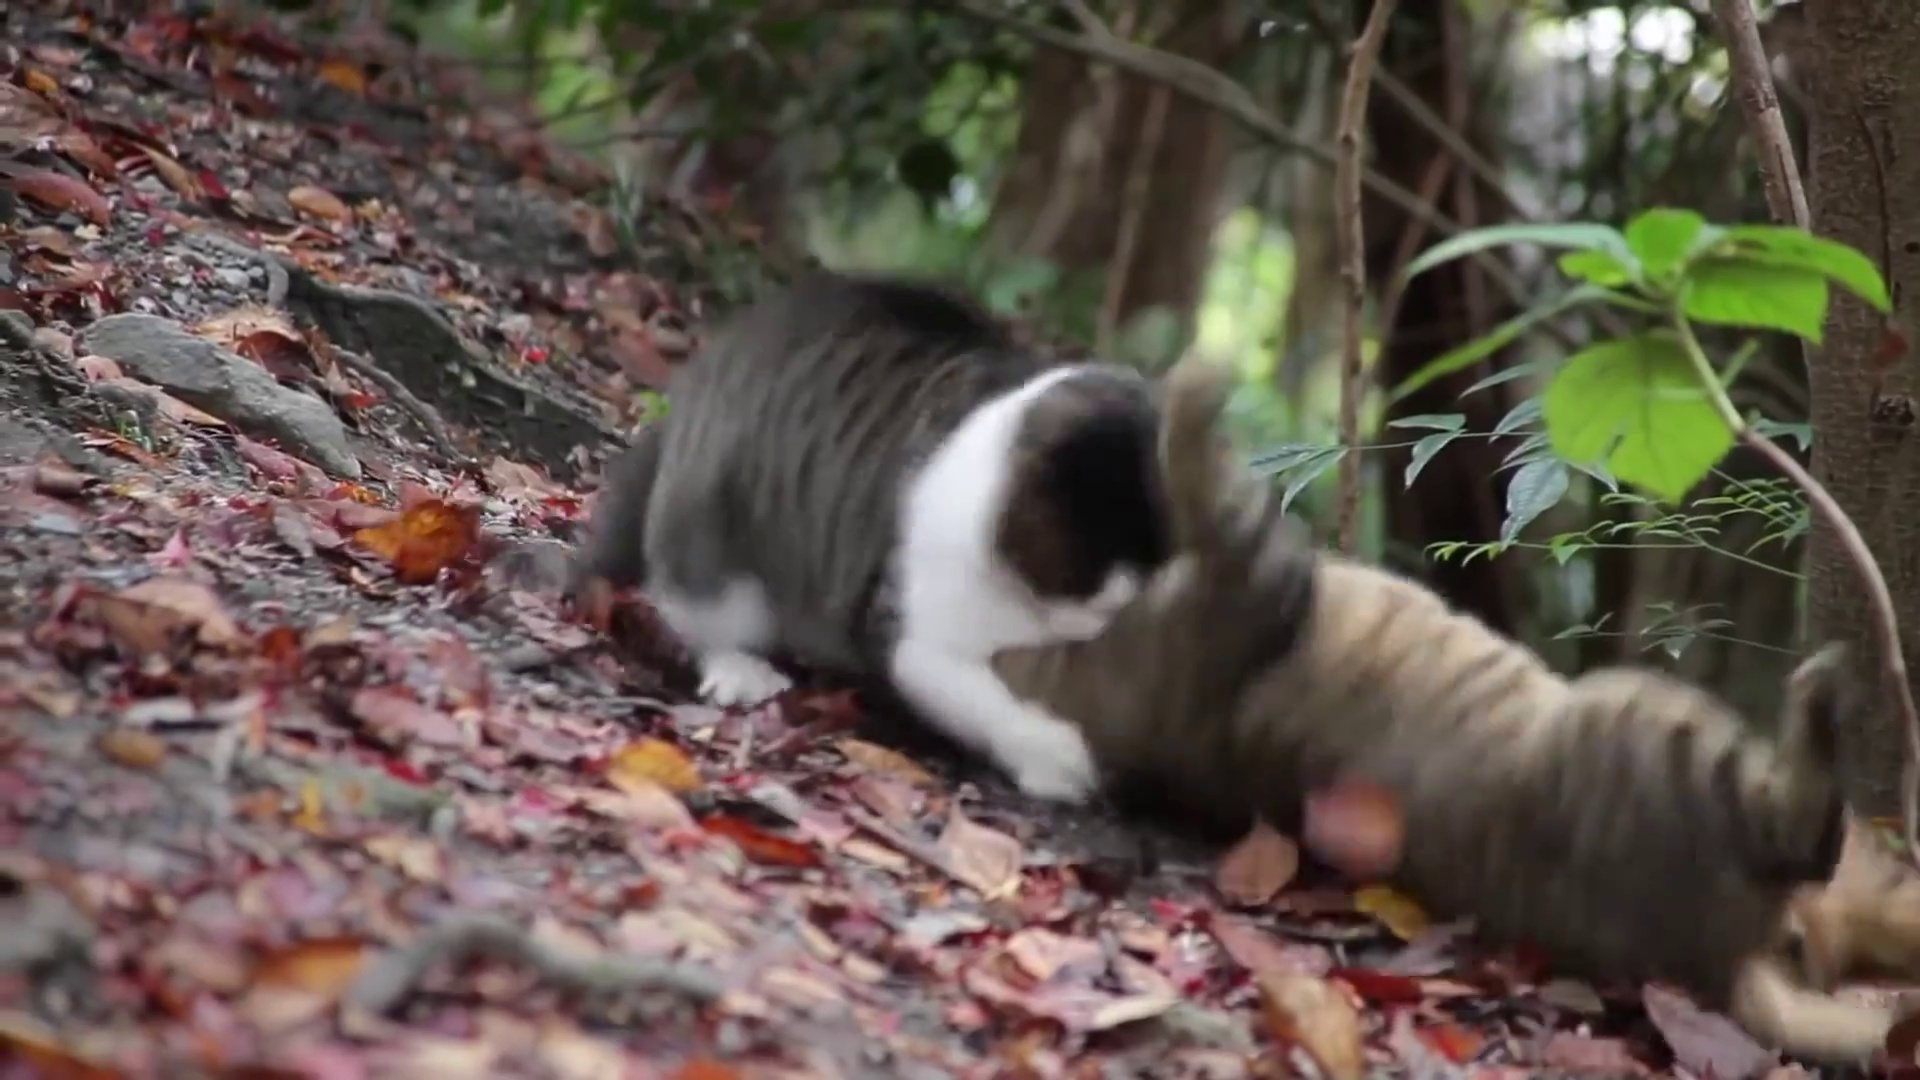black-white: (580, 276, 1183, 814)
pure black: (993, 345, 1850, 988)
